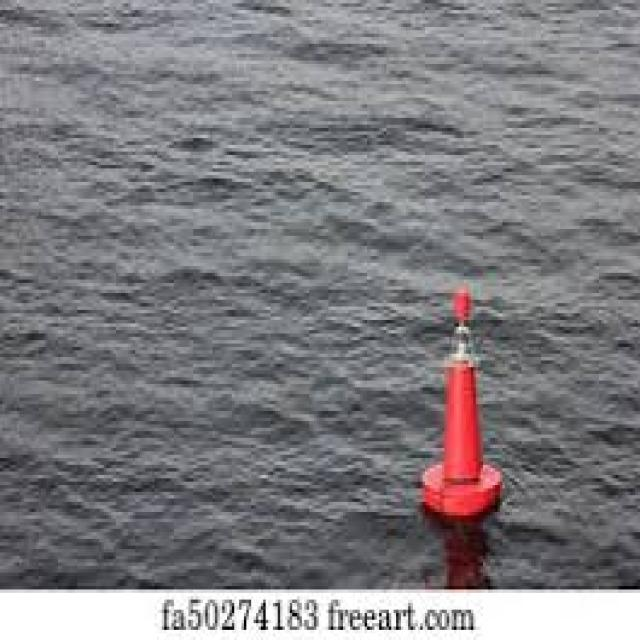2.1 lateral mark -P-: (418, 277, 511, 532)
